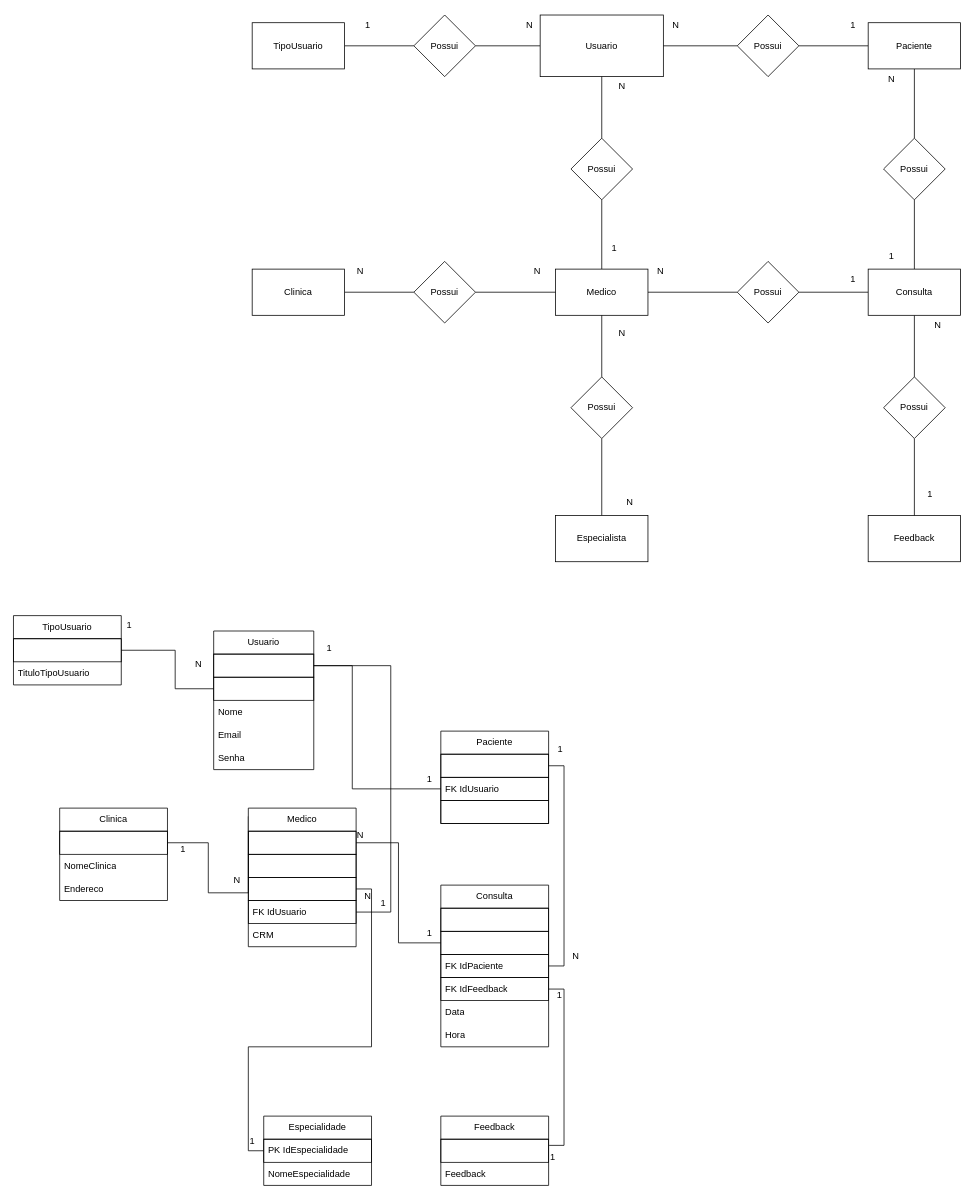
Image size: 974x1199. Some labels were removed from this diagram. The centre of each missing label's shape, as x and y in pixels:
"CPF" goes at (494,812).
"FK IdClinica" goes at (302,865).
"FK IdEspecialidade" goes at (302,889).
"FK IdMedico" goes at (494,942).
"FK IdTipoDeUsuario" goes at (263,688).
"PK Id Feedback" goes at (494,1150).
"PK IdClinica" goes at (113,842).
"PK IdConsulta" goes at (494,919).
"PK IdMedico" goes at (302,842).
"PK IdPaciente" goes at (494,765).
"PK IdTipoDeUsuario" goes at (67,650).
"PK IdUsuario" goes at (263,665).
